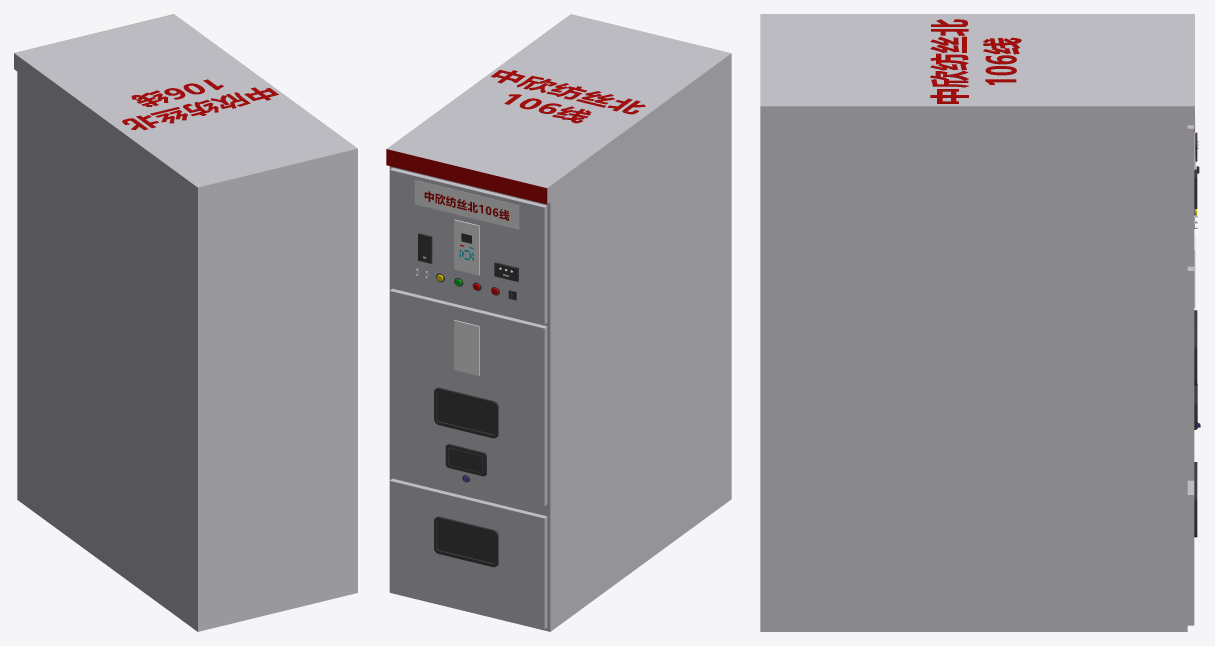
Rendered from 1-17-processed.gltf.
The picture shows the model from 3 angles, left to right: view 1: azimuth 30°, elevation 25°; view 2: azimuth 150°, elevation 25°; view 3: azimuth 270°, elevation 25°; orthographic projection. The views are drawn at different scales.
Parts seen in each view (by area): view 1: Rectangle8622, Text306; view 2: Rectangle8622, Rectangle8625, Rectangle8624, Obj3d66_1138023_124_991, Obj3d66_1138023_124_990, Rectangle8623, Text306, Obj3d66_1138023_187_658, Obj3d66_1138023_187_659, Obj3d66_1138023_127_189, Text305; view 3: Rectangle8622, Rectangle8625, Text306.
Part boxes in pixels (x1,y1,x2,y2): Rectangle8622: (14,14,357,631); Text306: (122,79,278,130); Rectangle8622: (387,14,731,631); Rectangle8625: (389,167,547,629); Rectangle8624: (386,149,547,204); Obj3d66_1138023_124_991: (434,516,498,567); Obj3d66_1138023_124_990: (434,387,498,438); Rectangle8623: (414,180,519,229); Text306: (491,70,645,123); Obj3d66_1138023_187_658: (454,320,479,375); Obj3d66_1138023_187_659: (454,219,479,275); Obj3d66_1138023_127_189: (445,444,486,476); Text305: (424,191,509,220); Rectangle8622: (760,14,1194,631); Rectangle8625: (1187,125,1194,625); Text306: (930,19,1021,103).
Size of the model in its own units: 830 by 2201 by 1671.
